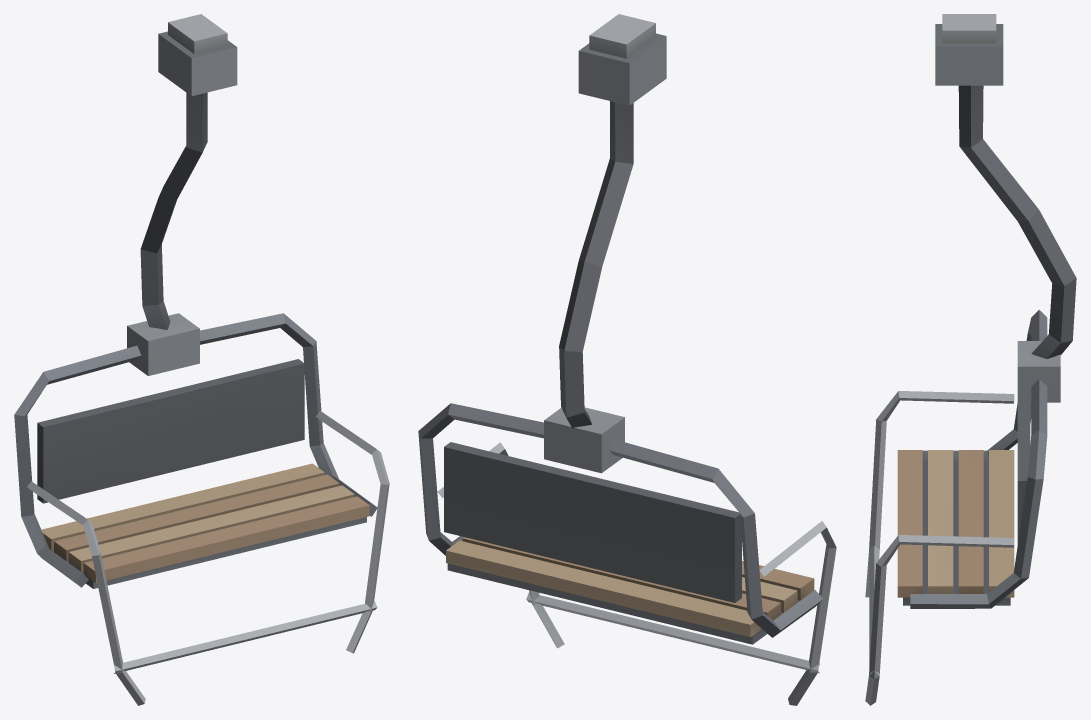
The model's file is chair.lod1.glb.
3 views of the same model, side by side, from view 1: azimuth 30°, elevation 25°; view 2: azimuth 150°, elevation 25°; view 3: azimuth 270°, elevation 25° (orthographic). The views are drawn at different scales.
Bounding box in the file's own units: 1.99 × 3.88 × 1.18.
